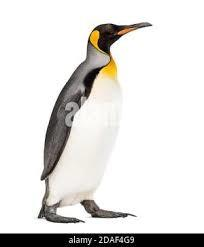king: (29, 16, 166, 227)
